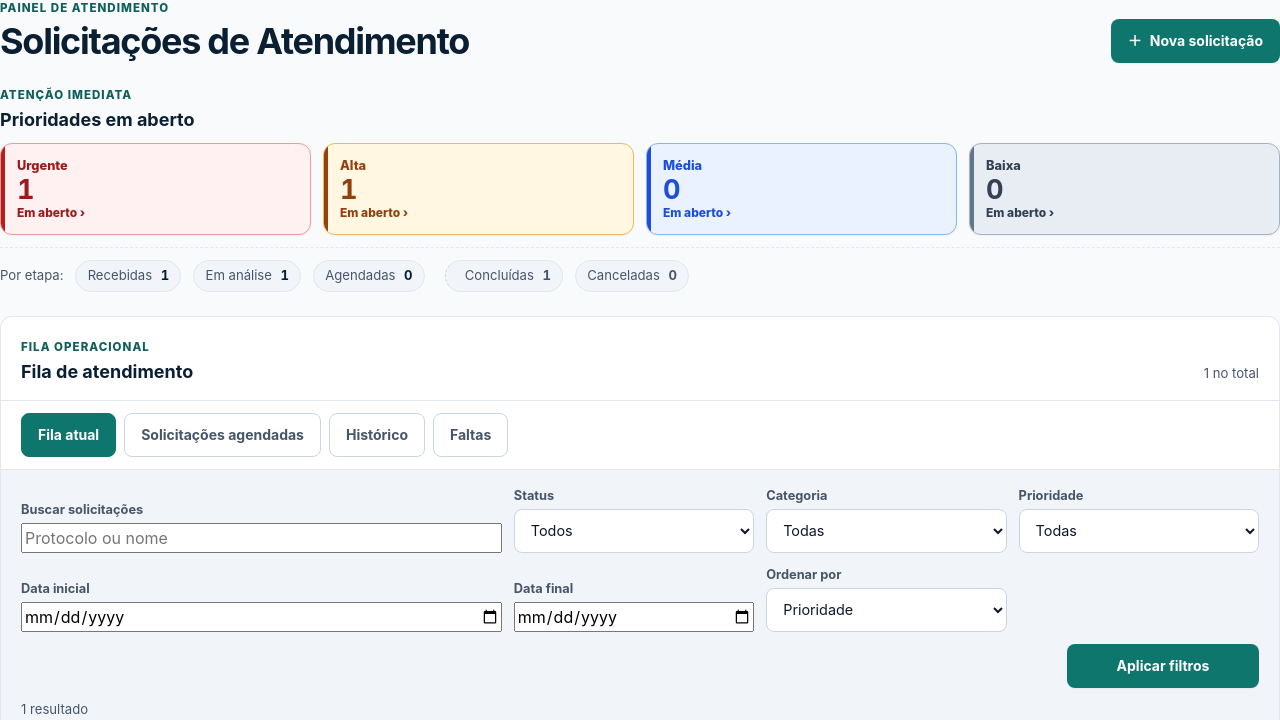
Test: SolicitacoesPage › abre o drill-down com a lista filtrada ao clicar em um bloco de prioridade
Click the button with aria-label "1 solicitação urgente em aberto". click: {"x": 42, "y": 166}
box: top-left (0, 143), bottom-right (311, 235)
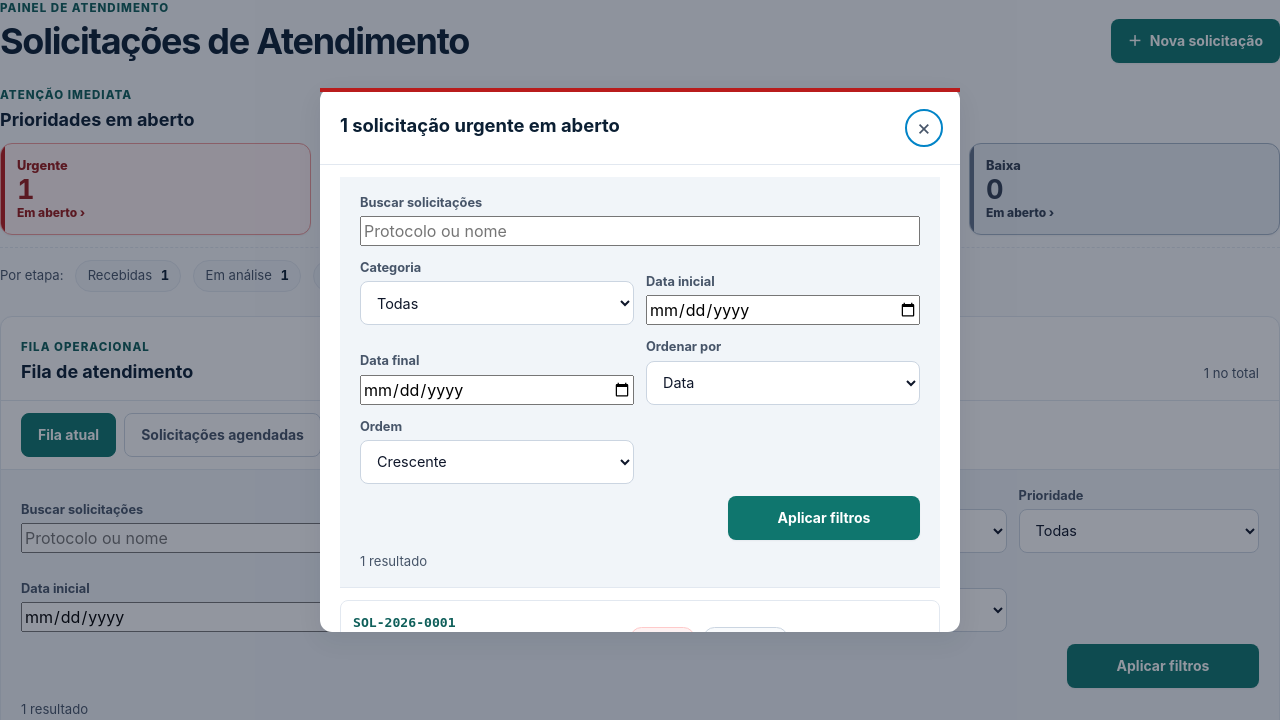
Expected: the heading "1 solicitação urgente em aberto" is shown, top-left (340, 112), bottom-right (620, 140)
Expected: the text "SOL-2026-0001" is shown, top-left (353, 613), bottom-right (462, 632)
Click the button named "Fechar". click: {"x": 924, "y": 128}
box: top-left (908, 112), bottom-right (940, 144)
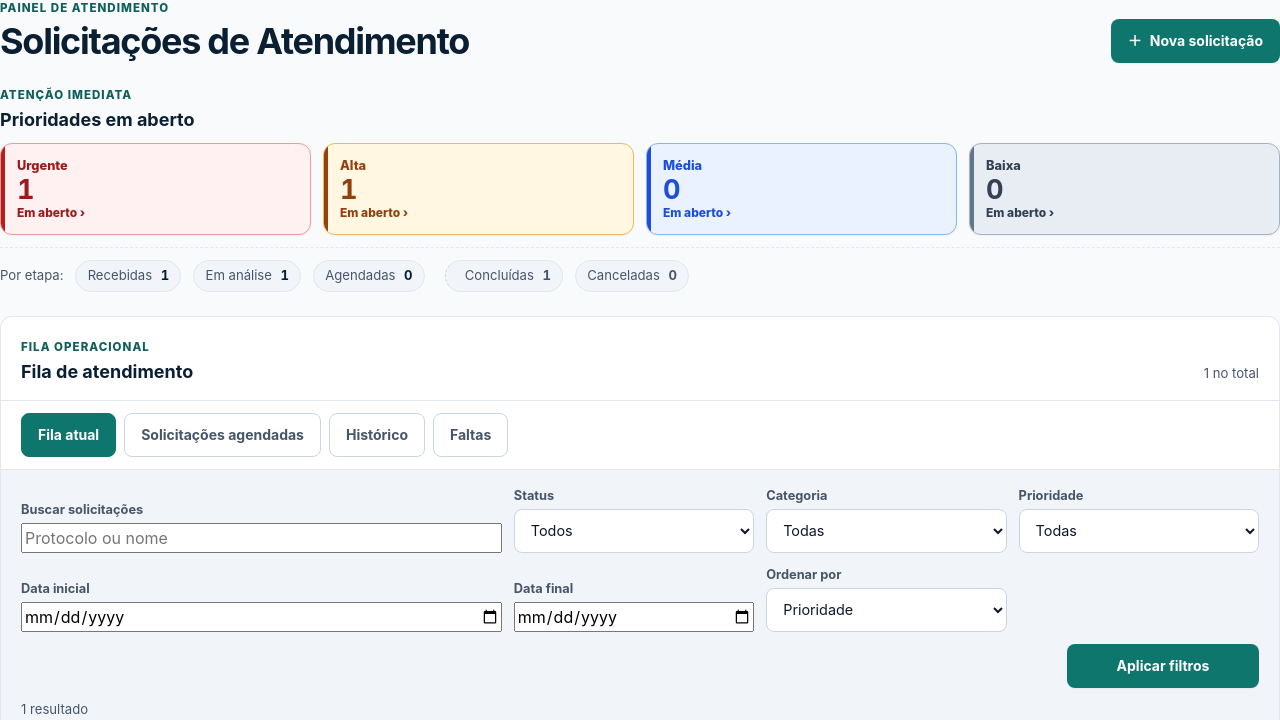
Expected: the heading "1 solicitação urgente em aberto" is gone
